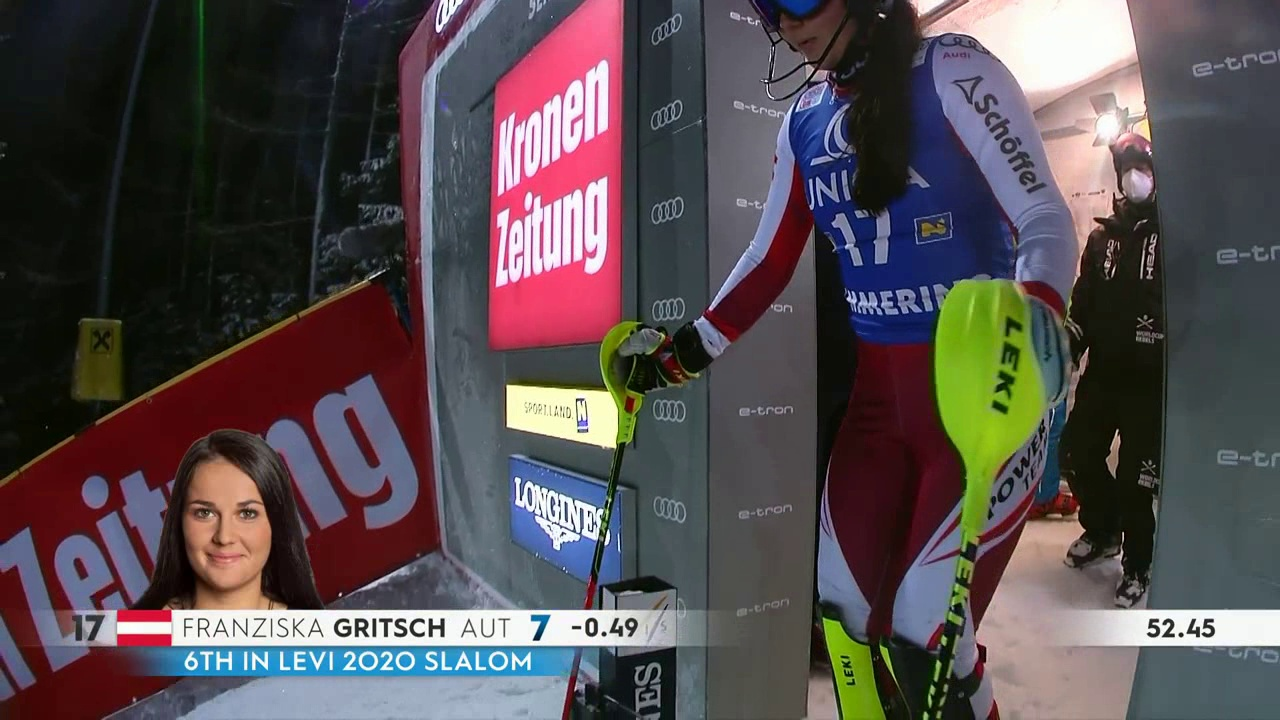audi: (642, 9, 695, 54), (643, 96, 695, 139), (644, 192, 694, 232), (646, 491, 694, 531), (646, 293, 694, 328), (646, 397, 695, 431)
etron: (731, 592, 794, 620)
kronenzeitung: (491, 58, 616, 305)
longines: (505, 466, 613, 571)
